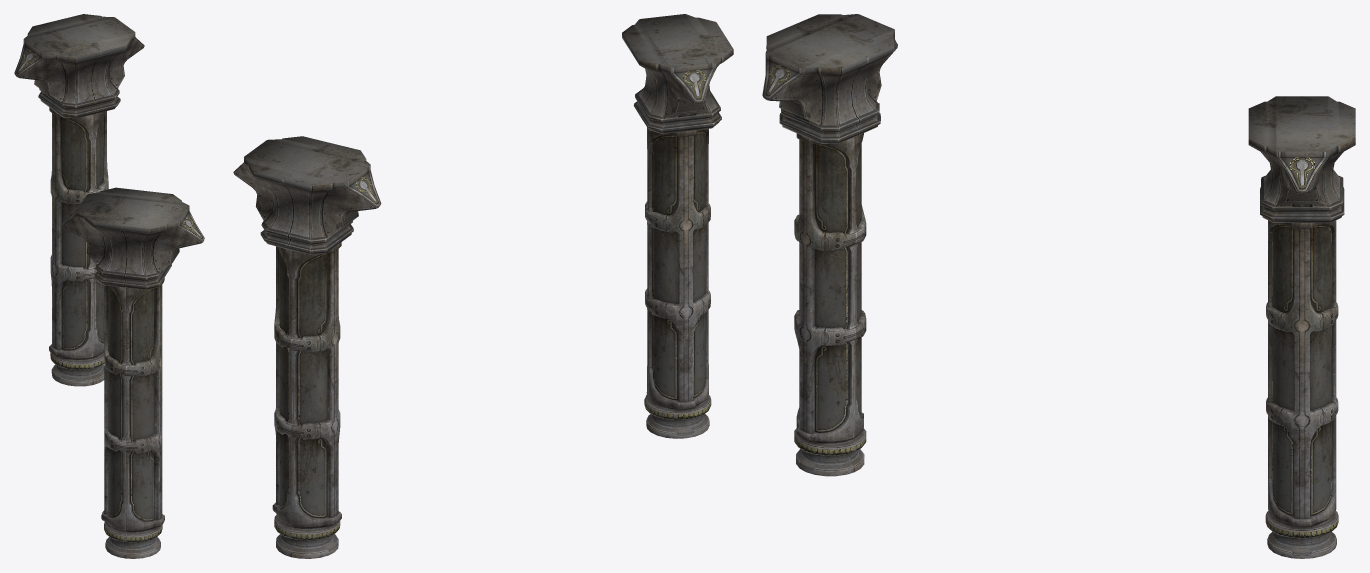
File: SM_Cave_Pillars_NoFlag.65d4d79e.glb
The picture shows the model from 3 angles, left to right: view 1: azimuth 30°, elevation 25°; view 2: azimuth 150°, elevation 25°; view 3: azimuth 270°, elevation 25°; orthographic projection. The views are drawn at different scales.
Visible parts, largest first — view 1: SM_Cave_Pillars_NoFlag; view 2: SM_Cave_Pillars_NoFlag; view 3: SM_Cave_Pillars_NoFlag.
Boxes of the visible parts, box(x1,y1,x2,y2) form: SM_Cave_Pillars_NoFlag: box(14, 14, 204, 558); SM_Cave_Pillars_NoFlag: box(233, 14, 733, 558); SM_Cave_Pillars_NoFlag: box(762, 14, 1355, 558).
Size of the model in its own units: 12.67 by 16.58 by 21.19.
1 material, 1 textured.
